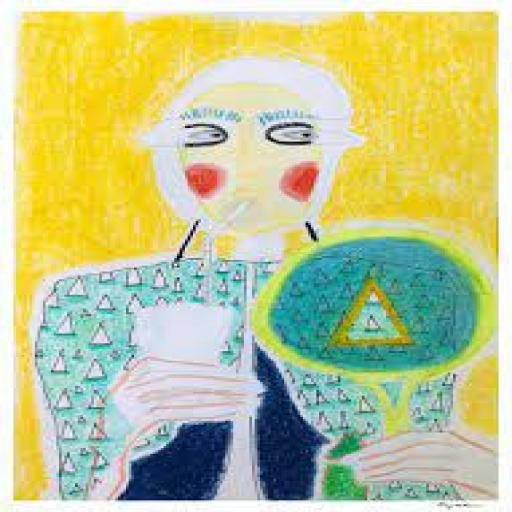person: (30, 52, 496, 503)
